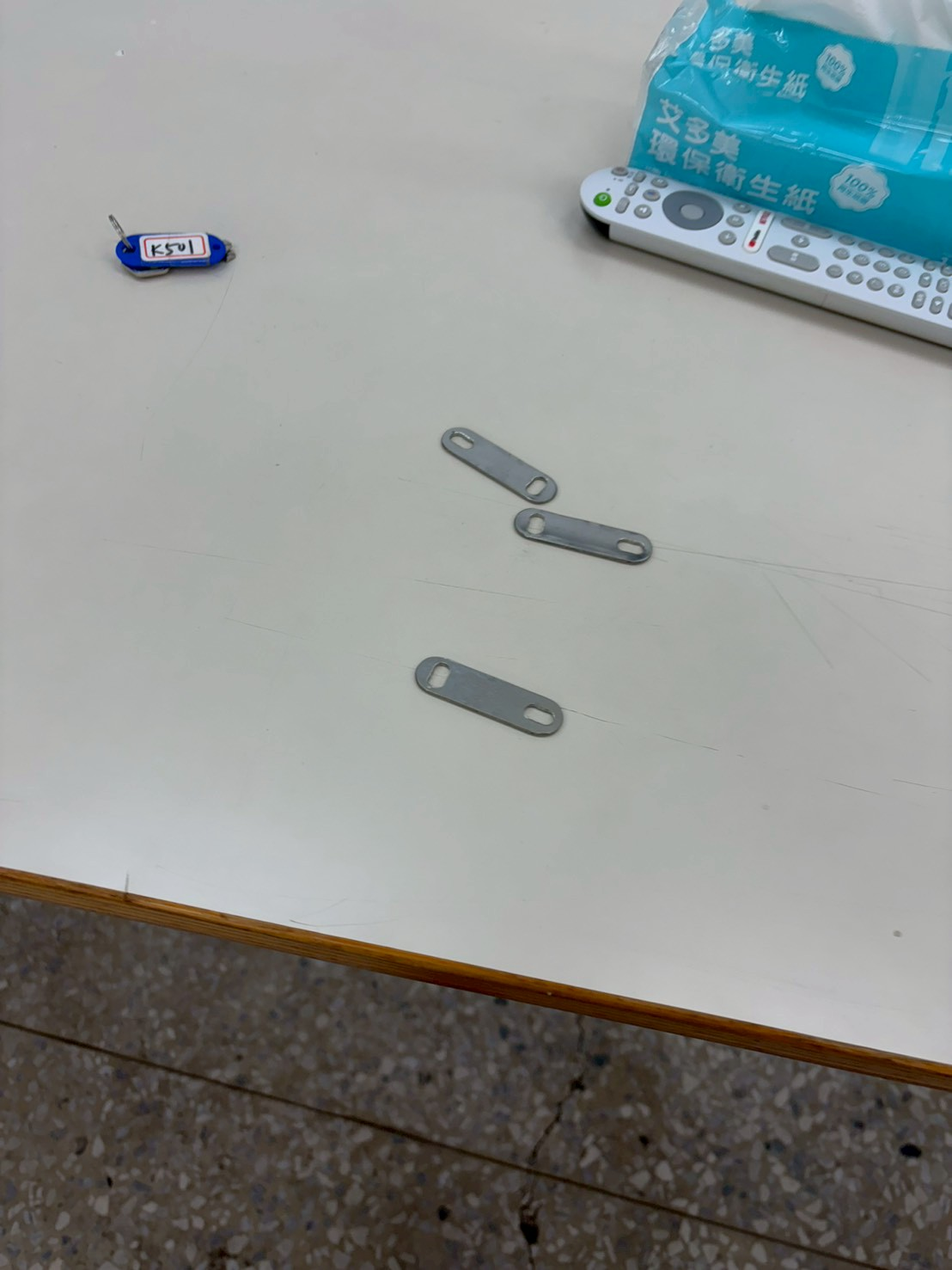Fe: (404, 642, 568, 745), (439, 412, 559, 508), (505, 502, 659, 566)
